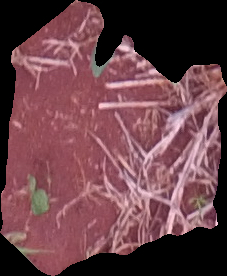soil: (2, 3, 224, 273)
